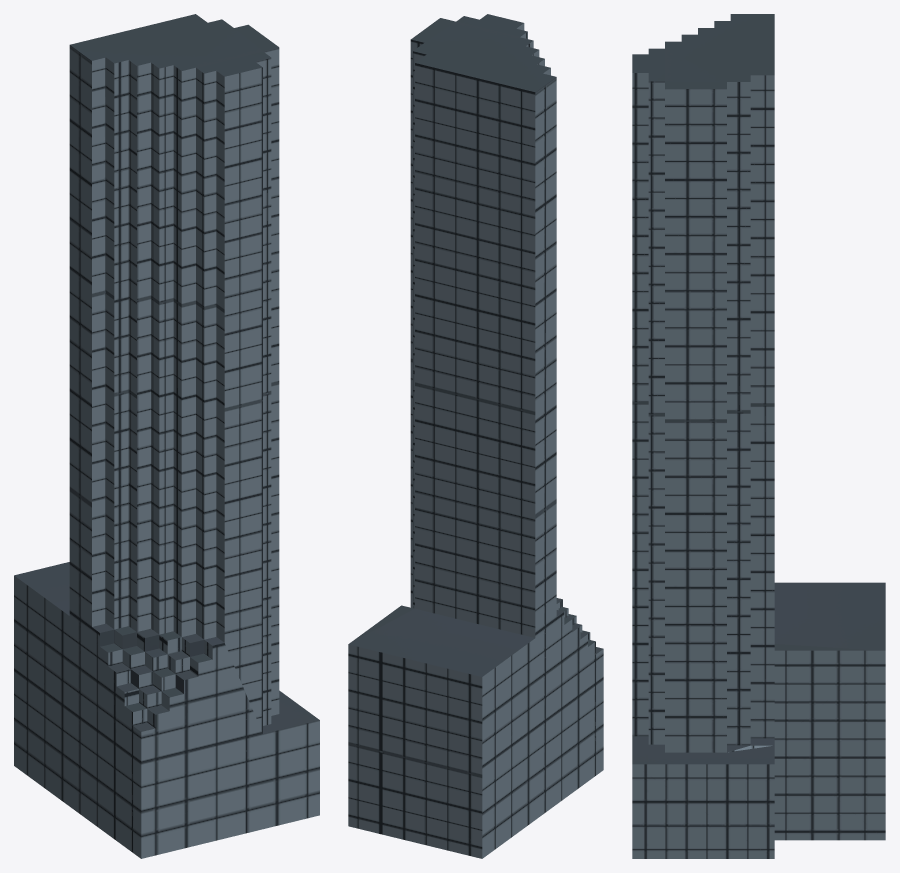
Rendered from building5.obj.
The picture shows the model from 3 angles, left to right: view 1: azimuth 30°, elevation 25°; view 2: azimuth 150°, elevation 25°; view 3: azimuth 270°, elevation 25°; orthographic projection. The views are drawn at different scales.
Visible parts, largest first — view 1: TrumpTowerNY; view 2: TrumpTowerNY; view 3: TrumpTowerNY.
Part boxes in pixels (x1=…): TrumpTowerNY: x1=14, y1=14, x2=319, y2=858; TrumpTowerNY: x1=348, y1=14, x2=603, y2=858; TrumpTowerNY: x1=632, y1=14, x2=885, y2=858.
Bounding box in the file's own units: 1.04 × 4.22 × 1.28.
1 material, 1 textured.
